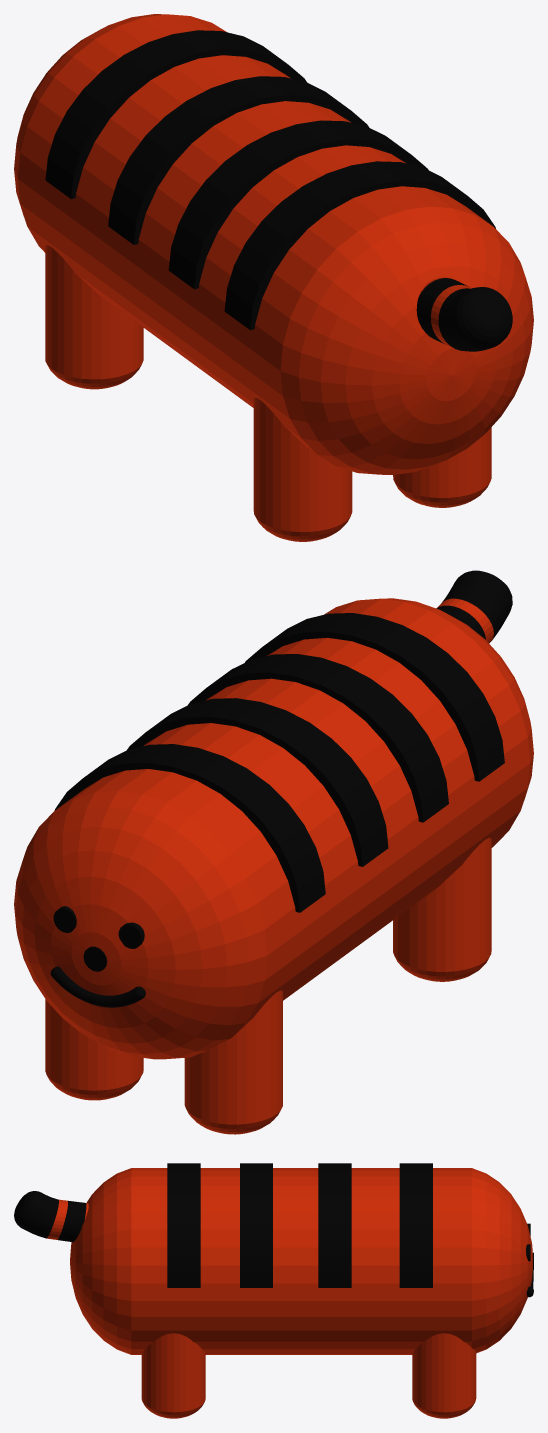
The model's file is cheese_puff.obj.
The picture shows the model from 3 angles, top to bottom: view 1: azimuth 30°, elevation 25°; view 2: azimuth 150°, elevation 25°; view 3: azimuth 270°, elevation 25°; orthographic projection. The views are drawn at different scales.
Visible parts, largest first — view 1: Cylinder.005; view 2: Cylinder.005; view 3: Cylinder.005.
Part boxes in pixels (x1=…): Cylinder.005: x1=14, y1=14, x2=533, y2=541; Cylinder.005: x1=14, y1=570, x2=533, y2=1134; Cylinder.005: x1=14, y1=1163, x2=533, y2=1418.
Bounding box in the file's own units: 1.86 × 2.36 × 5.07.
